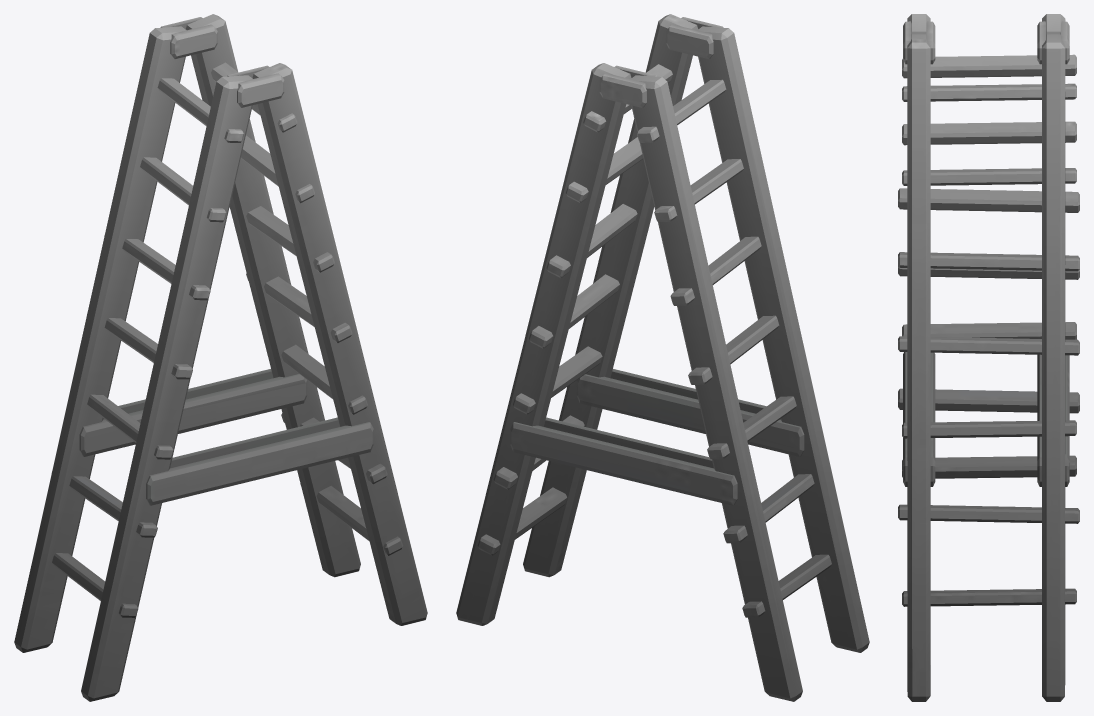
Rendered from ladder.glb.
The picture shows the model from 3 angles, left to right: view 1: azimuth 30°, elevation 25°; view 2: azimuth 150°, elevation 25°; view 3: azimuth 270°, elevation 25°; orthographic projection.
Parts seen in each view (by area): view 1: ladder; view 2: ladder; view 3: ladder.
Boxes of the visible parts, x1,y1,x2,y2 form: ladder: (14, 14, 427, 701); ladder: (456, 14, 869, 701); ladder: (898, 14, 1079, 701).
Bounding box in the file's own units: 0.9712 × 1.6 × 0.4464.
1 material, 1 textured.
